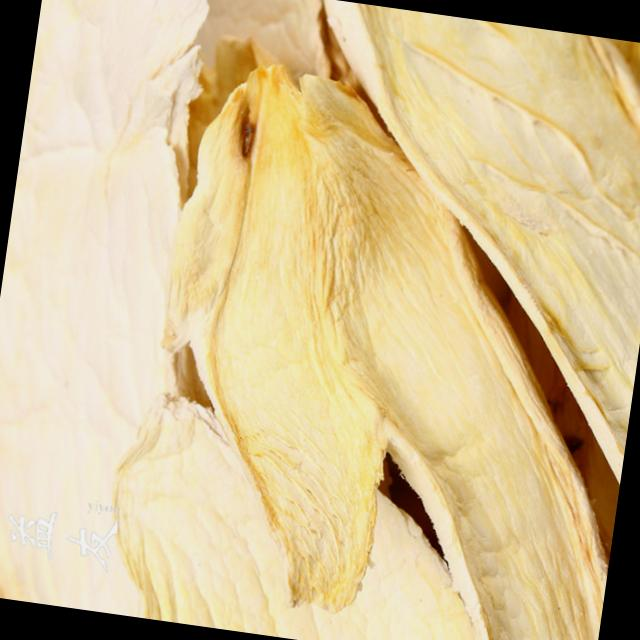Pleurotus eryngii: (236, 103, 640, 640), (280, 0, 640, 447)
